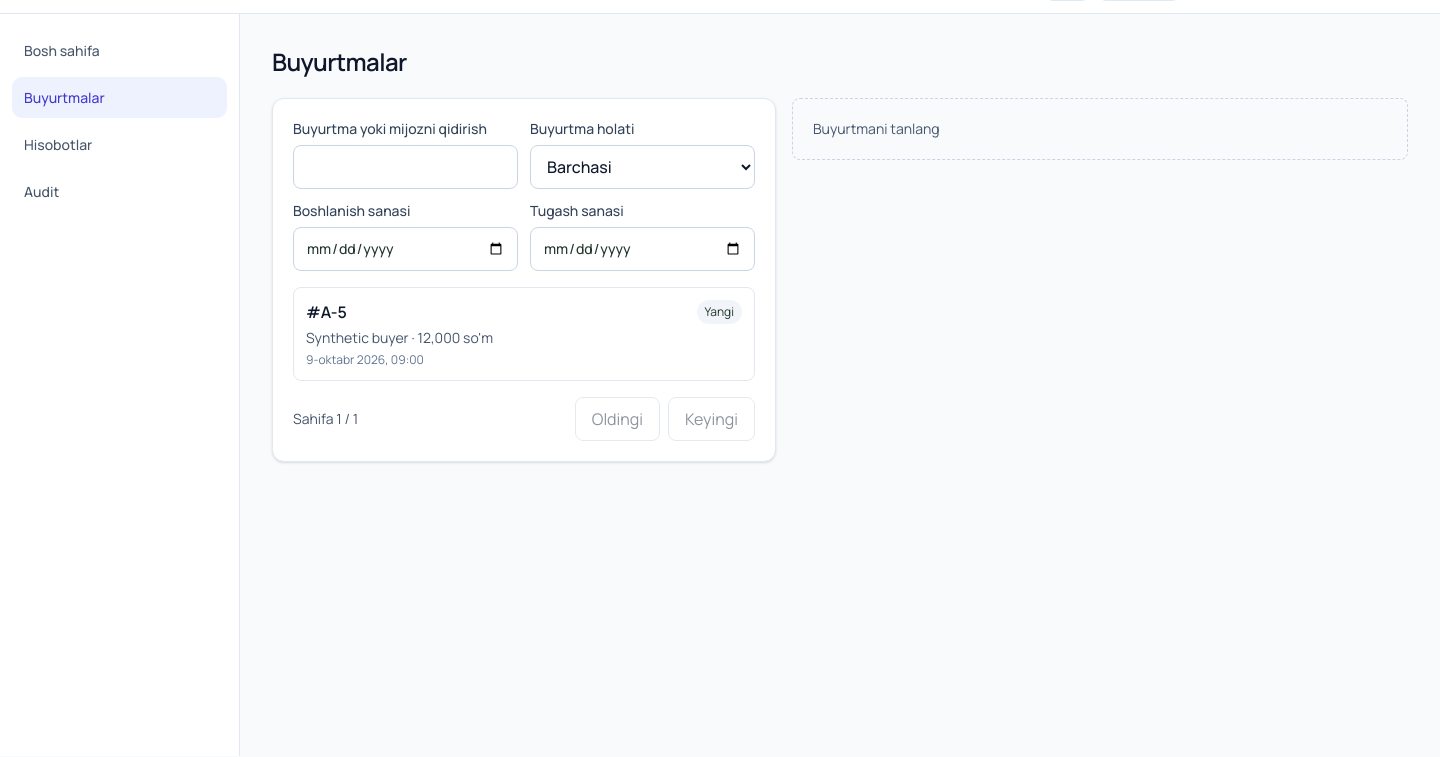
Test: admin domain pages › queues a one-off order message only on the explicit action with the order message DTO
Click the button "A-5".
click(719, 312)  # box [293, 287, 755, 381]
(page scrolled)
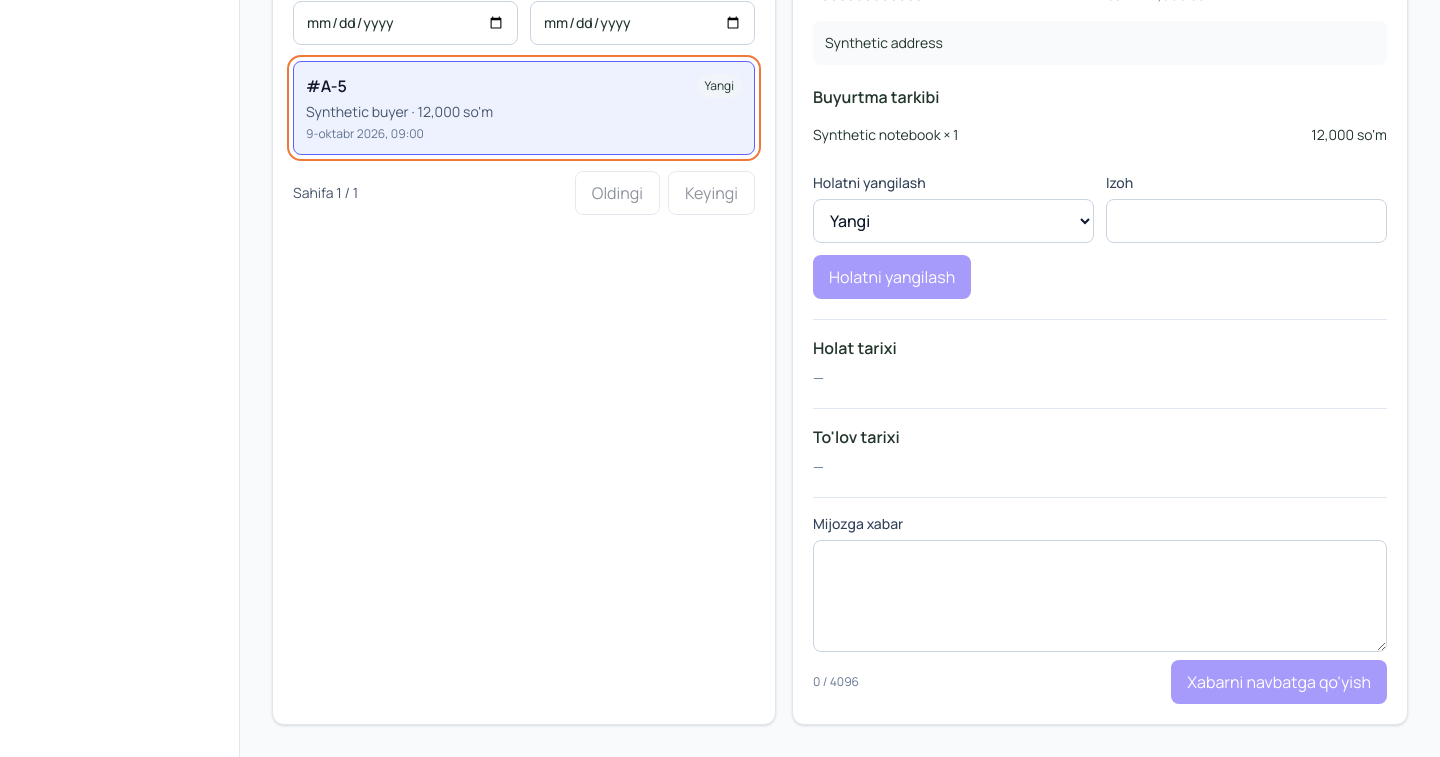
Type "Synthetic follow-up" into the text box labelled "Mijozga xabar".
click(1100, 596); type("Synthetic follow-up")  # box [813, 540, 1387, 652]
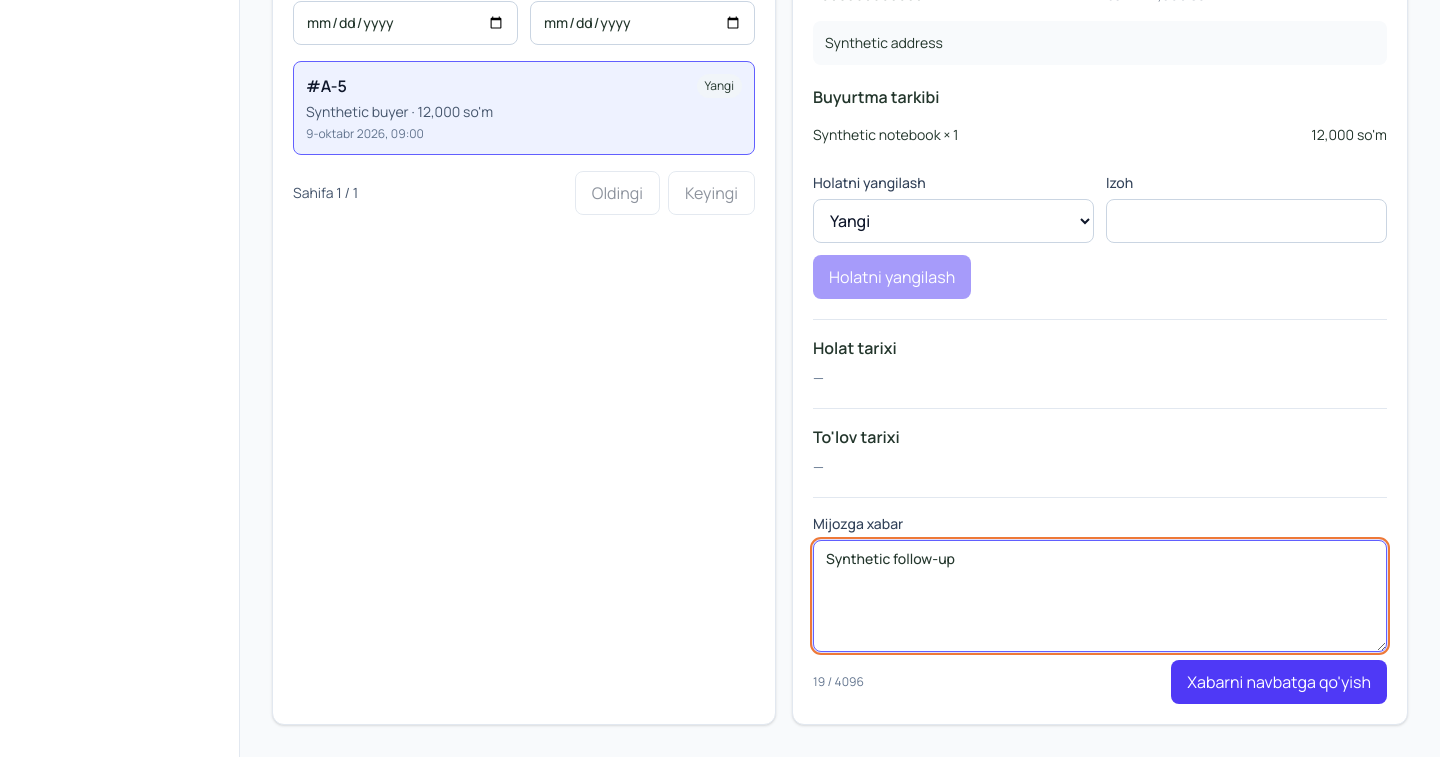
Click the button "Xabarni navbatga qo'yish".
click(1279, 682)  # box [1171, 660, 1387, 704]
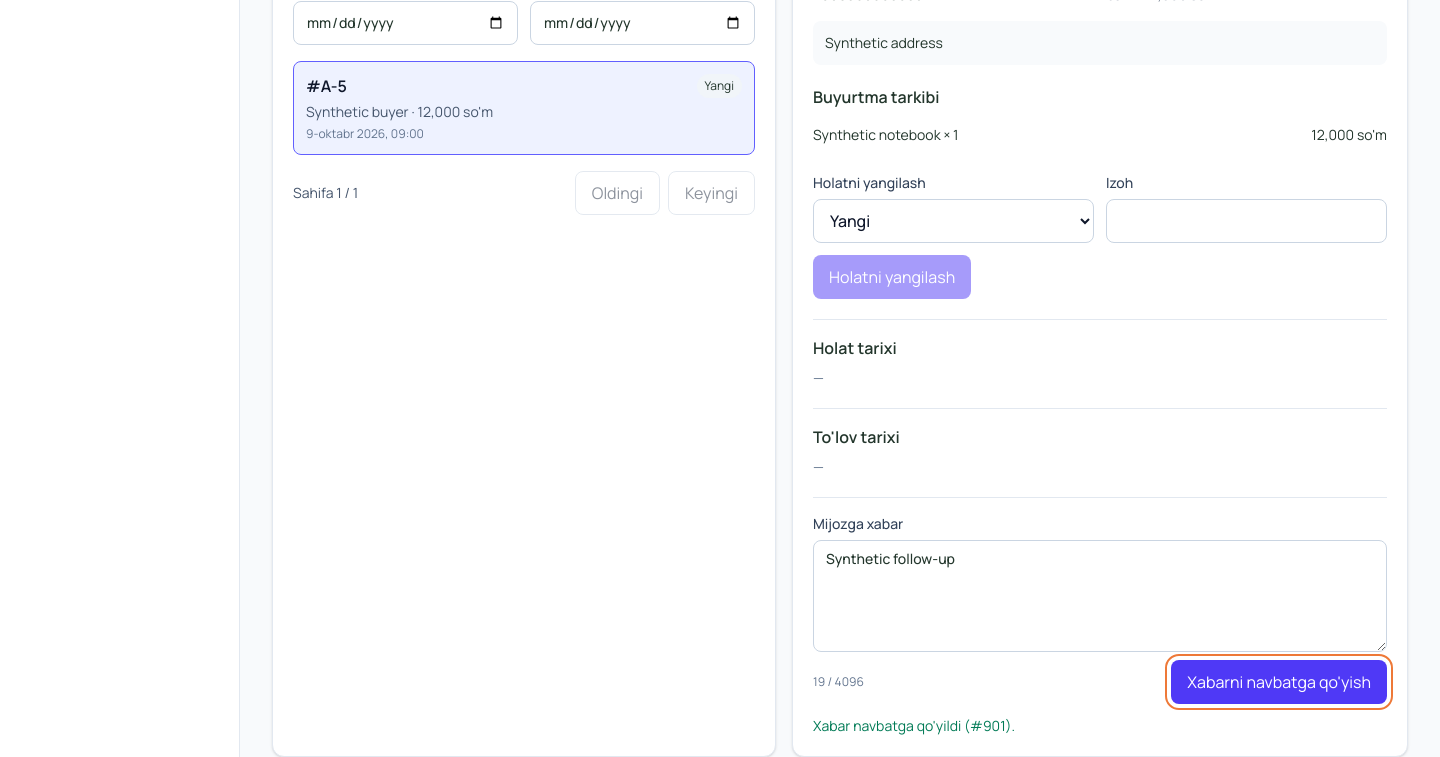
Expected: the message shows "Xabar navbatga qo'yildi", [813, 716, 1015, 735]
